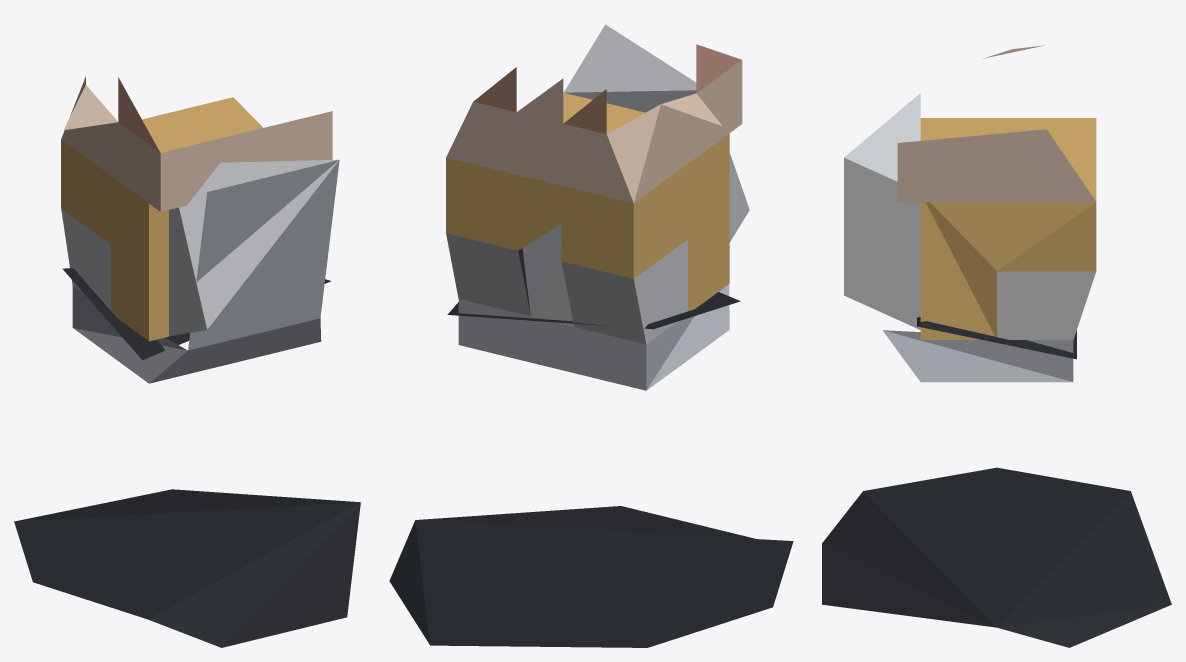
File: armour-light.lod.glb
The picture shows the model from 3 angles, left to right: view 1: azimuth 30°, elevation 25°; view 2: azimuth 150°, elevation 25°; view 3: azimuth 270°, elevation 25°; orthographic projection. The views are drawn at different scales.
Visible parts, largest first — view 1: armour-light; view 2: armour-light; view 3: armour-light.
Boxes of the visible parts, box(x1,y1,x2,y2) form: armour-light: box(14, 76, 360, 647); armour-light: box(389, 24, 793, 647); armour-light: box(822, 45, 1171, 647).
Size of the model in its own units: 0.52 by 0.7848 by 0.4804.
